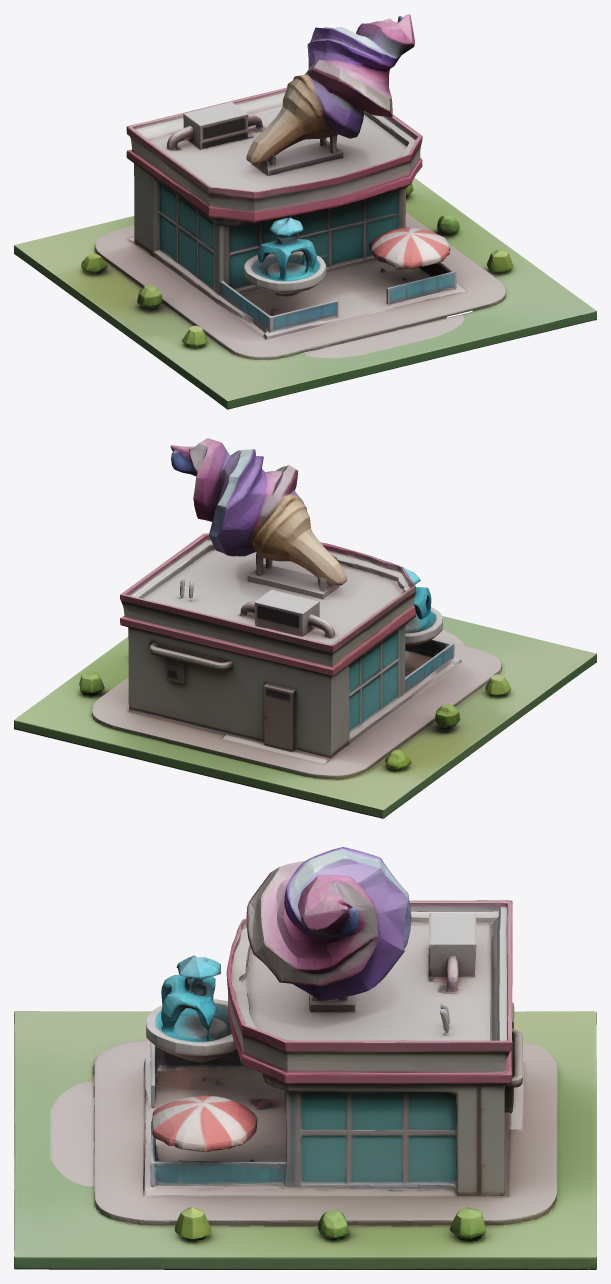
File: PartObjaverseTiny_Seventeen_edit.glb
3 renders of one model, top to bottom at view 1: azimuth 30°, elevation 25°; view 2: azimuth 150°, elevation 25°; view 3: azimuth 270°, elevation 25°, orthographic. The views are drawn at different scales.
Visible parts, largest first — view 1: world; view 2: world; view 3: world.
Part boxes in pixels (<box>): world: <box>14,14,596,409</box>; world: <box>14,438,596,818</box>; world: <box>14,847,596,1269</box>.
Bounding box in the file's own units: 1 × 0.6186 × 1.
Materials: 1 (1 with a texture image).
